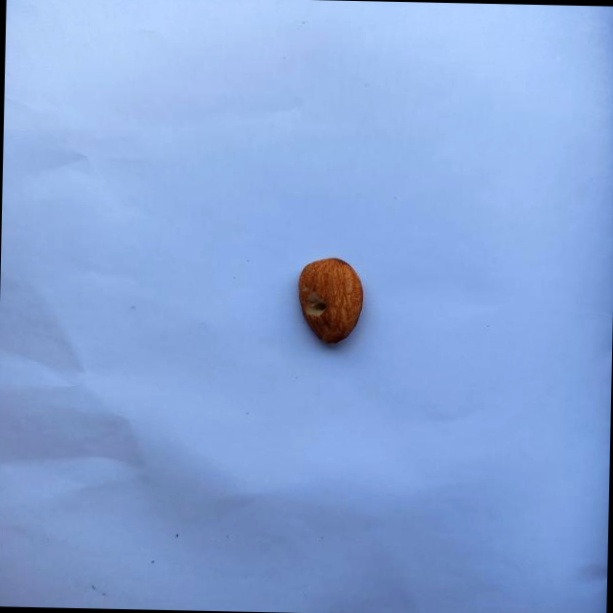grade3: (292, 253, 366, 349)
